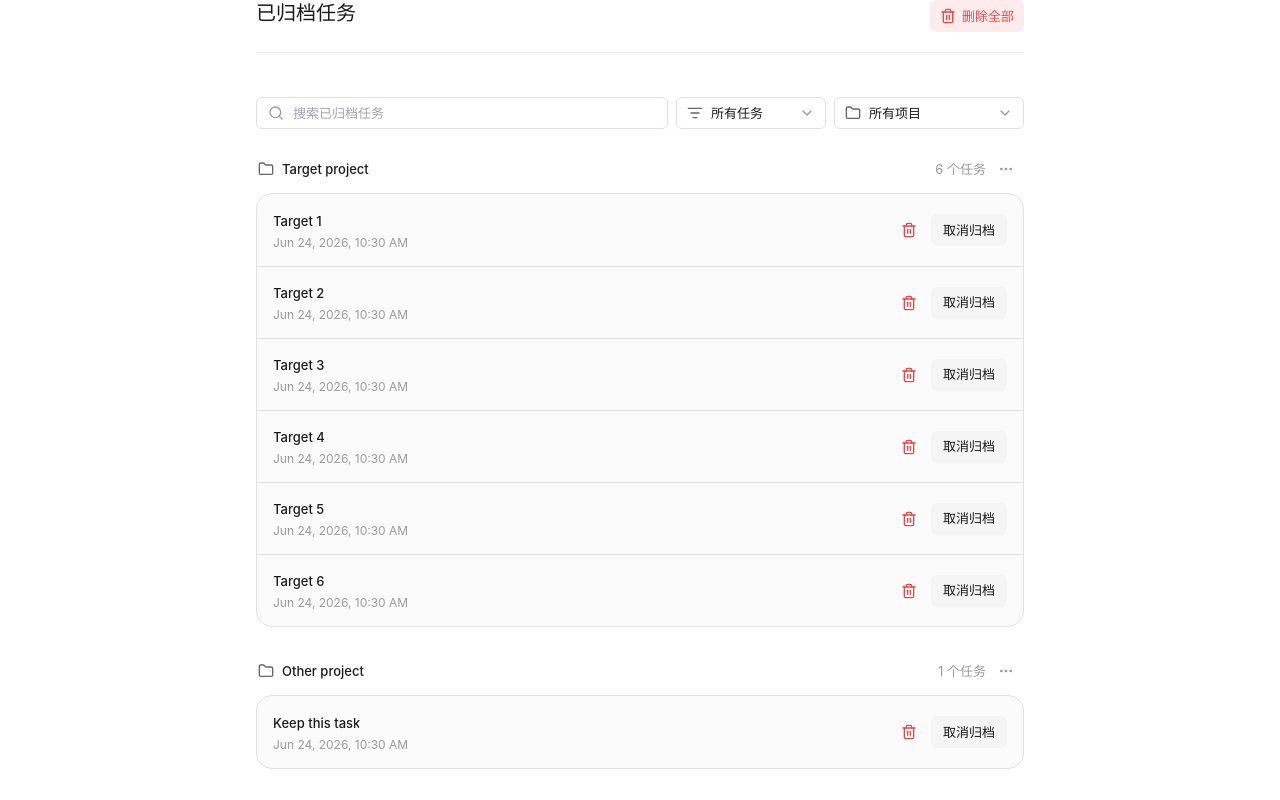
ArchivedConversationsSettingsPage › deletes every task in a project in batches regardless of the active search
Expected: the button "Target 1" is shown, x1=273 y1=212 x2=322 y2=230
Type "Target 1" into the field with test id "archived-search-input" at (462, 113), box x1=256 y1=97 x2=668 y2=129
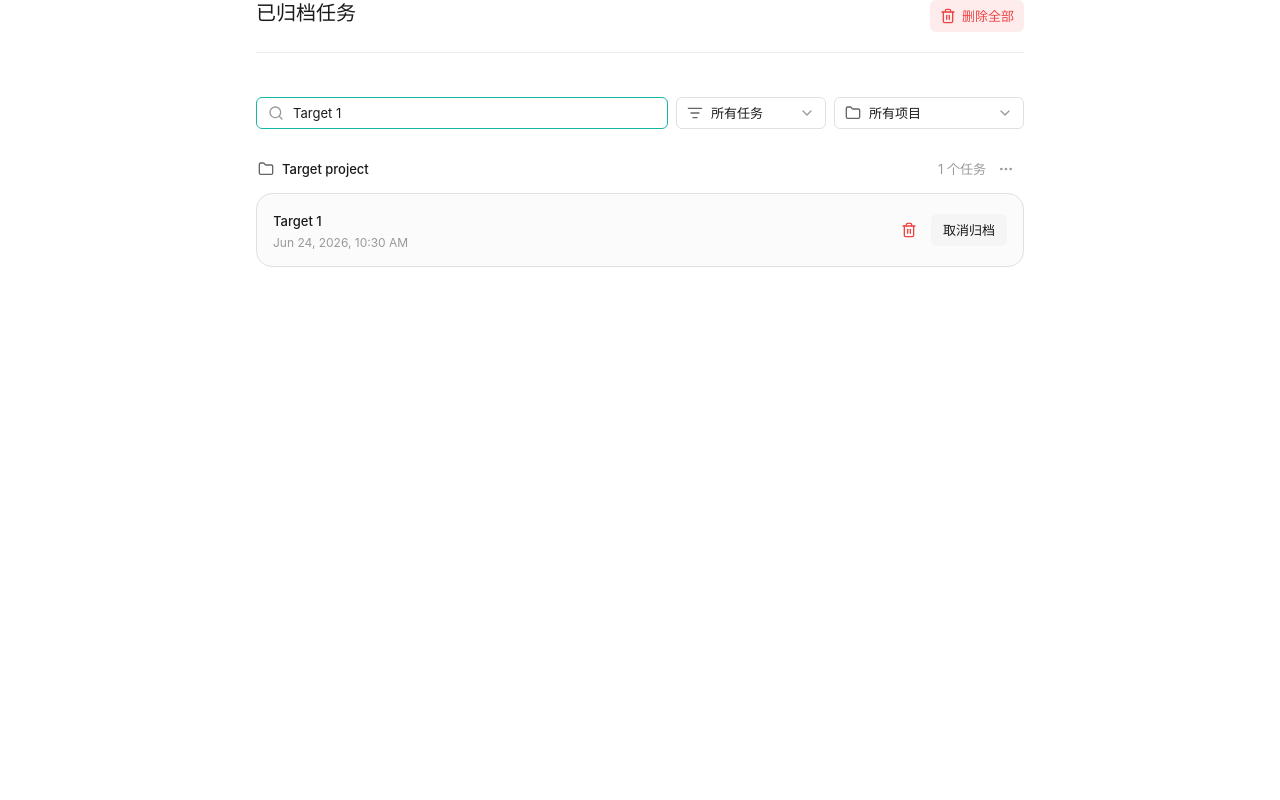
Now the text with test id "archived-group-count-Target-project" reads "1 个任务", box x1=938 y1=161 x2=986 y2=177
Click the button with test id "archived-project-actions-Target-project" at (1006, 169), box x1=990 y1=153 x2=1022 y2=185
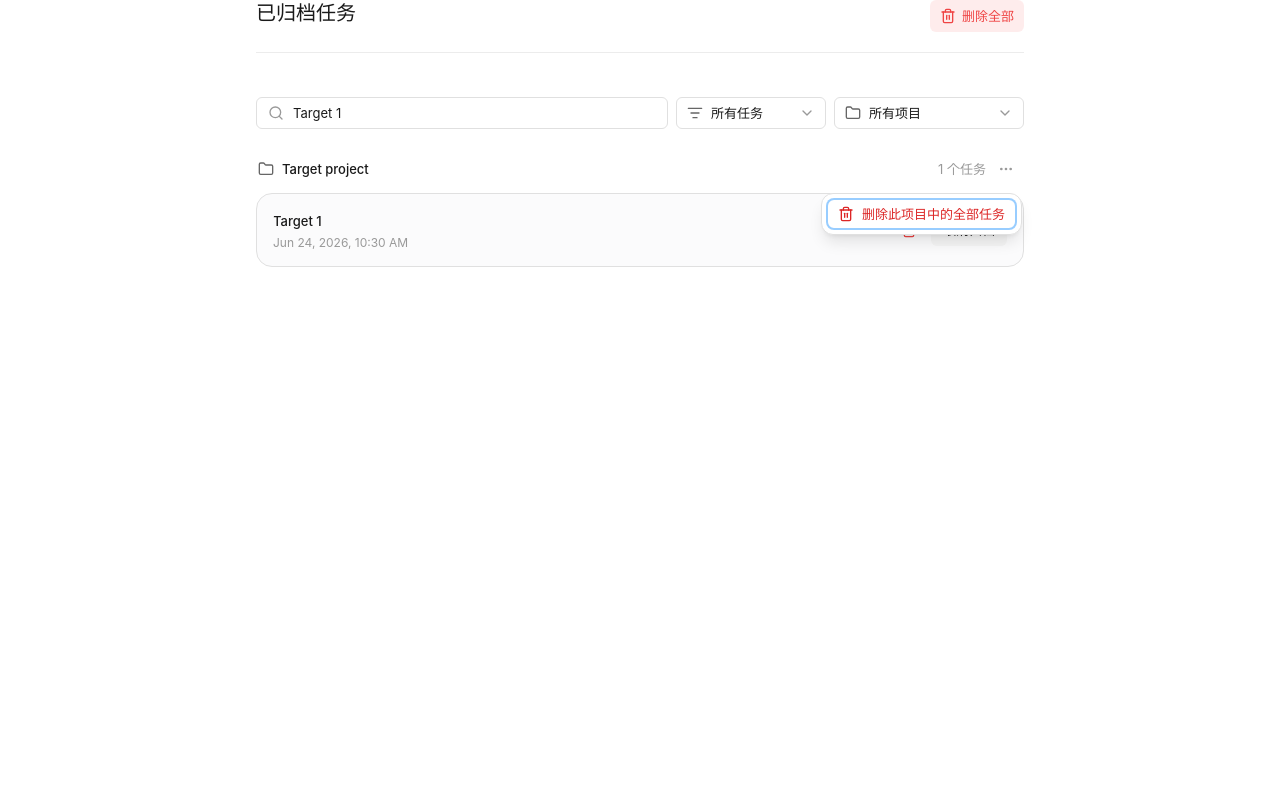
Click the menu item with test id "archived-delete-project-Target-project" at (922, 214), box x1=826 y1=198 x2=1017 y2=230
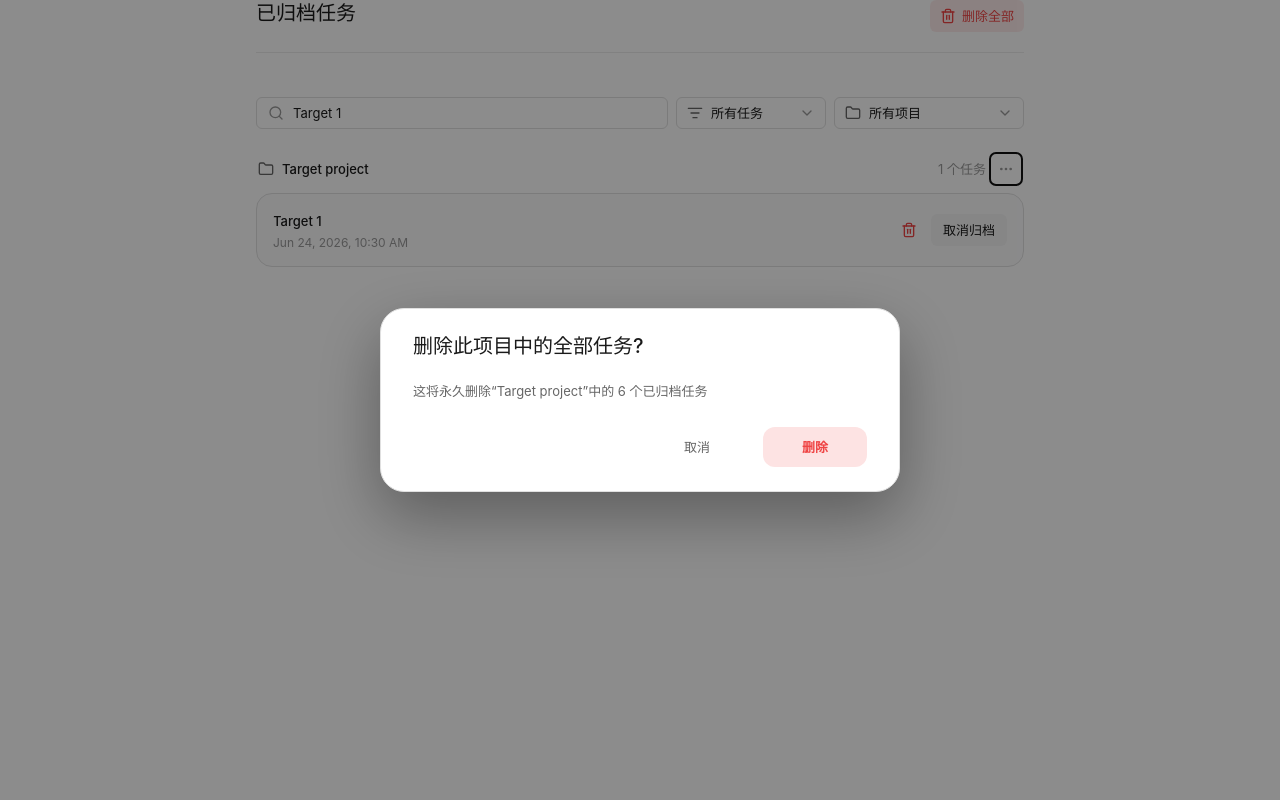
Now the dialog with test id "archived-project-delete-confirm-dialog" shows "删除此项目中的全部任务?", box x1=413 y1=334 x2=644 y2=358
Now the dialog with test id "archived-project-delete-confirm-dialog" shows "“Target project”中的 6 个已归档任务", box x1=413 y1=383 x2=708 y2=399
Click the button with test id "archived-project-delete-confirm-dialog-confirm-button" at (815, 447), box x1=763 y1=427 x2=867 y2=467
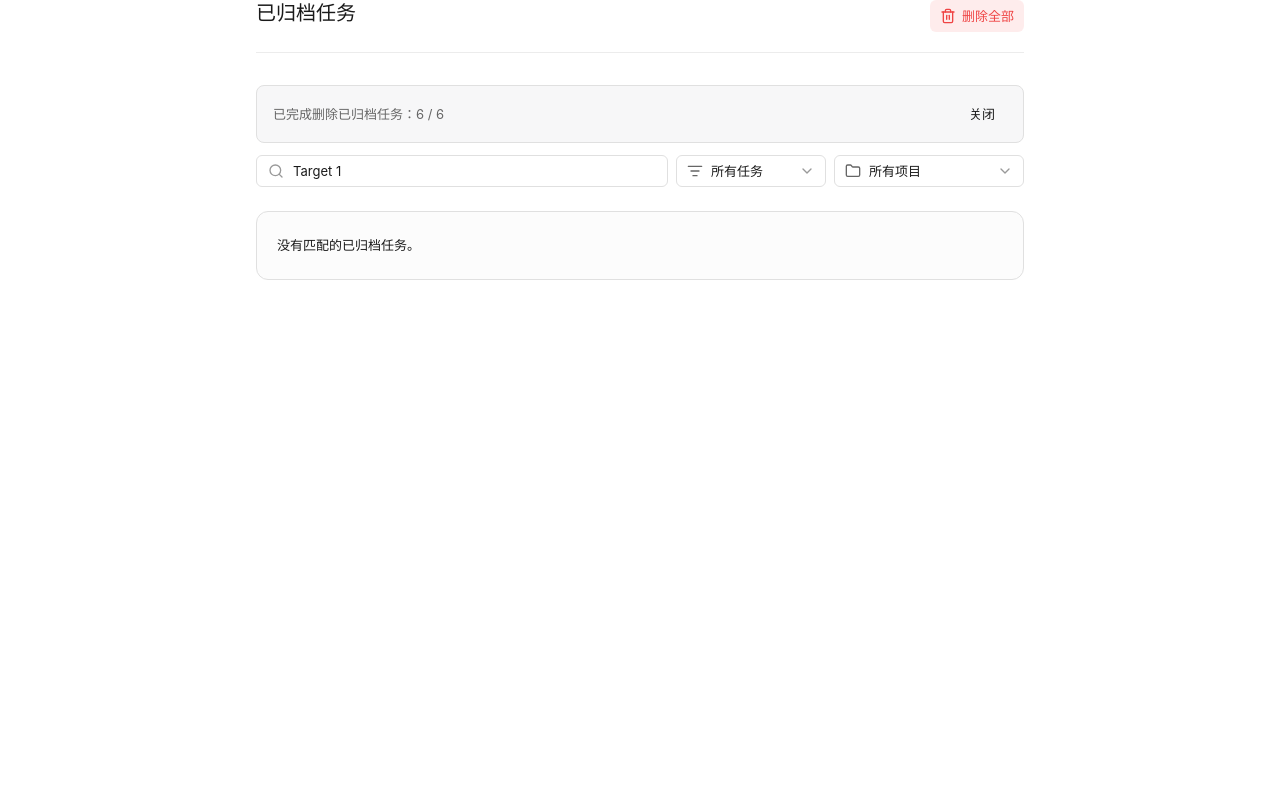
Clear the field with test id "archived-search-input" at (462, 171), box x1=256 y1=155 x2=668 y2=187
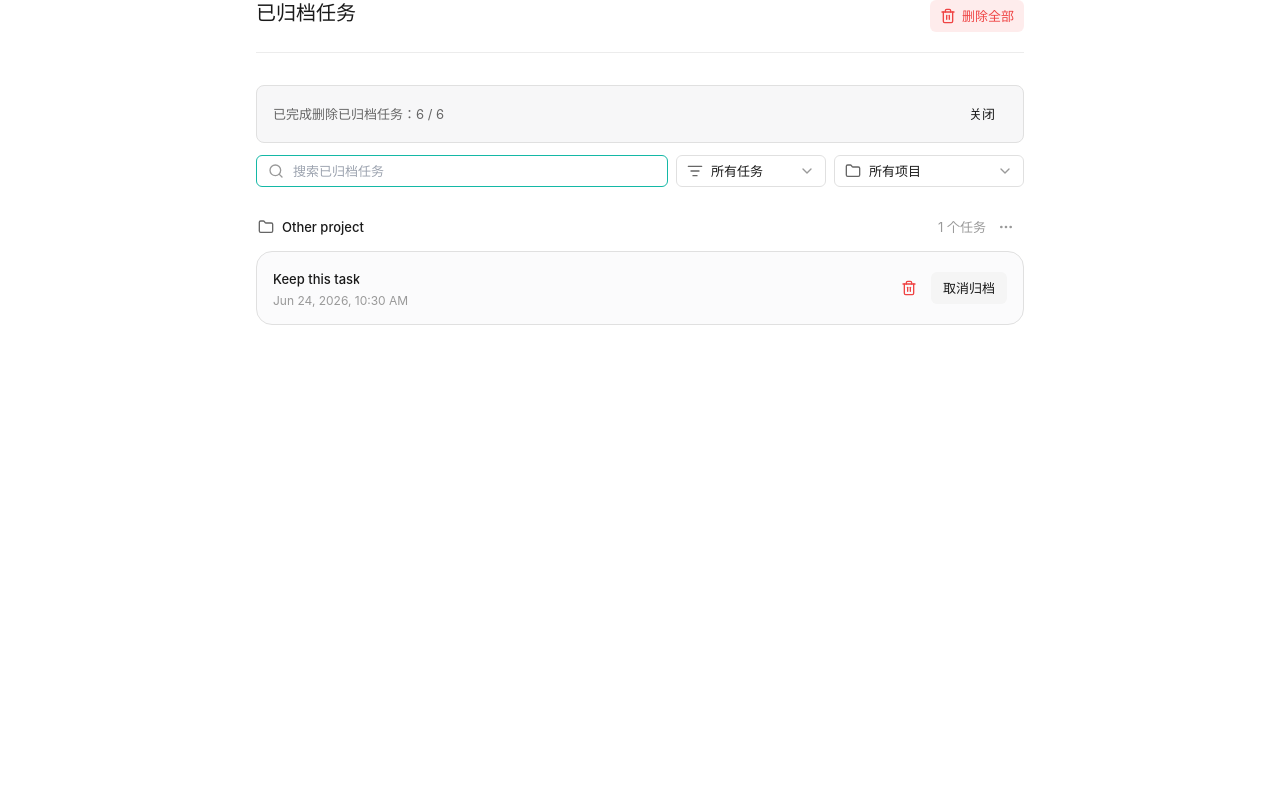
Expected: the button "Target 1" is not shown
Now the element with test id "archived-bulk-delete-background-progress" shows "6 / 6", box x1=273 y1=106 x2=444 y2=122
Now the button "Keep this task" is shown, box x1=273 y1=270 x2=360 y2=288
